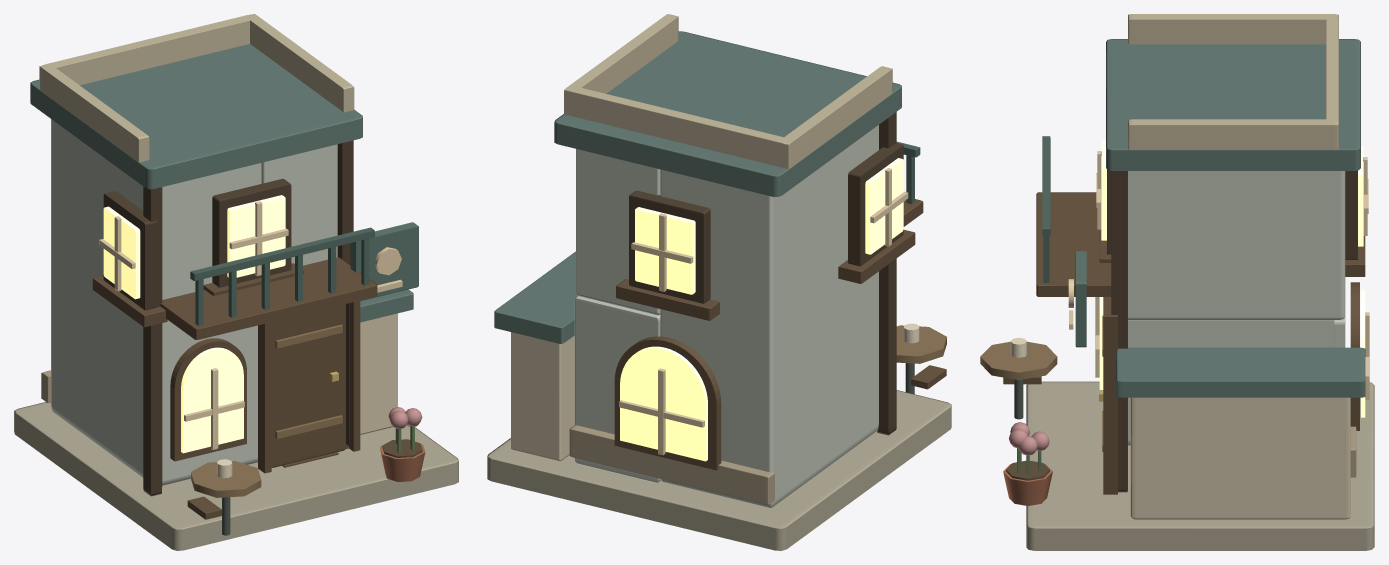
Rendered from cafe-2.glb.
3 renders of one model, left to right at view 1: azimuth 30°, elevation 25°; view 2: azimuth 150°, elevation 25°; view 3: azimuth 270°, elevation 25°, orthographic. The views are drawn at different scales.
Visible parts, largest first — view 1: cafe-2-0, door-hinge; view 2: cafe-2-0; view 3: cafe-2-0.
Part boxes in pixels (x1,y1,x2,y2): cafe-2-0: (14, 14, 458, 550); door-hinge: (271, 304, 345, 467); cafe-2-0: (487, 14, 951, 550); cafe-2-0: (980, 14, 1374, 550).
Size of the model in its own units: 1.9 by 2.38 by 2.15.
